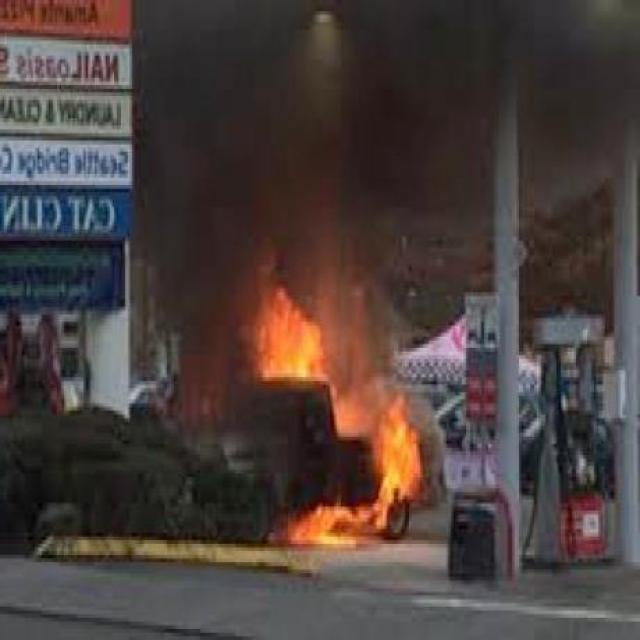Fire: (240, 273, 433, 551)
Smoke: (212, 55, 544, 264)
